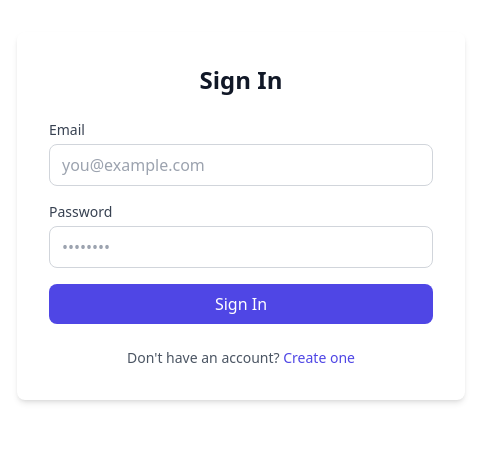
Login Page › shows API error on login failure
The width and height of the screenshot is (483, 461).
In the field labelled "Email": (241, 165) [49,144,433,186], type "test@example.com"
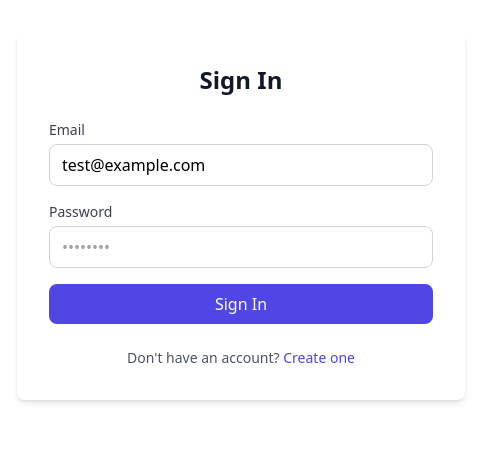
In the password field labelled "Password": (241, 247) [49,226,433,268], type "password123"
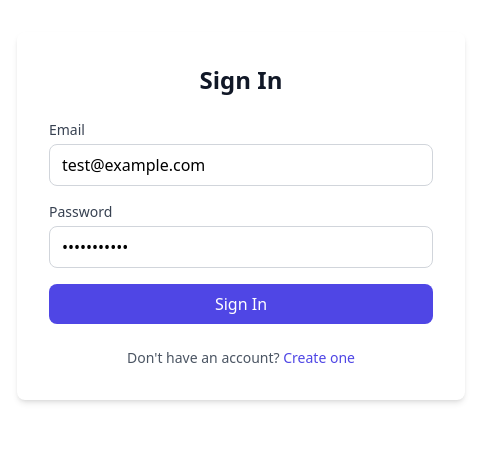
Submit the form, box [49,120,433,324]
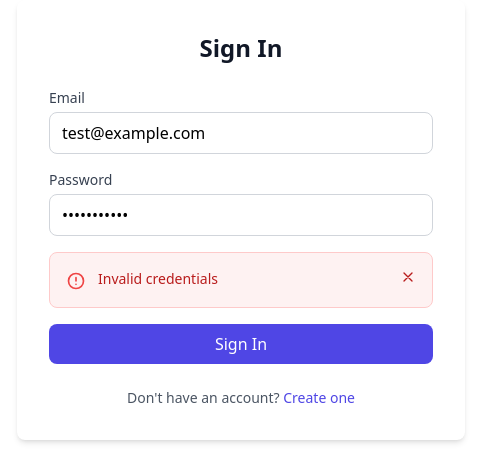
Now the text "Invalid credentials" is shown, box [98,269,218,288]
